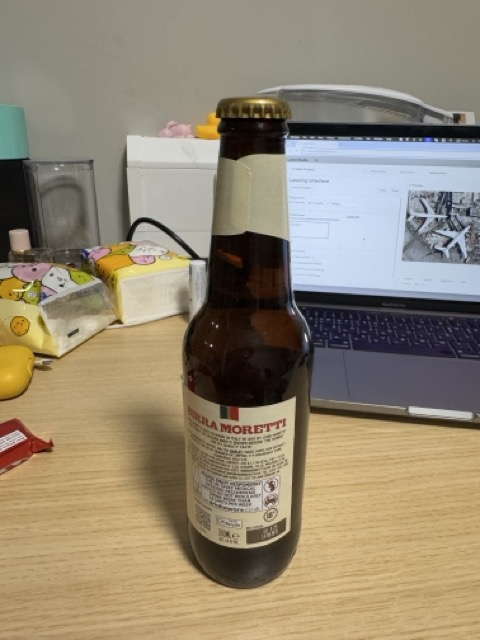beer: (181, 99, 315, 588)
